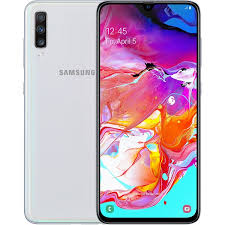samsung: (92, 1, 201, 225), (19, 1, 99, 225)
